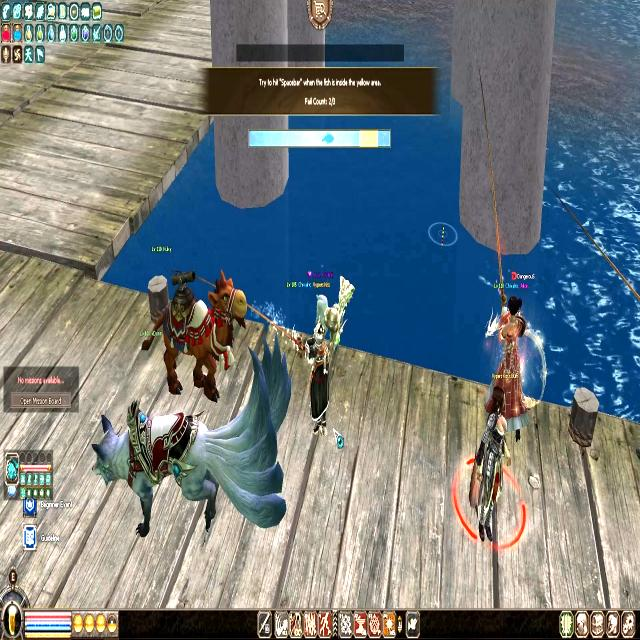fishes: (322, 130, 334, 146)
